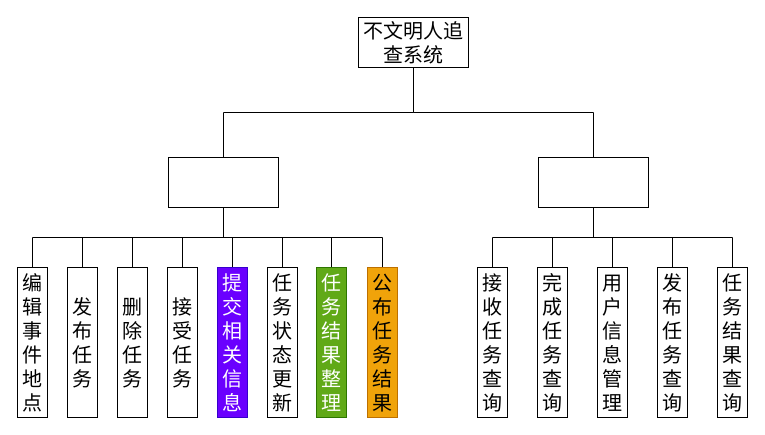
Image size: 765x435. Some labels were removed from this diagram. Each missing label, with the centre of its shape:
任务管理子系统: [223,182]
用户管理子系统: [593,182]
